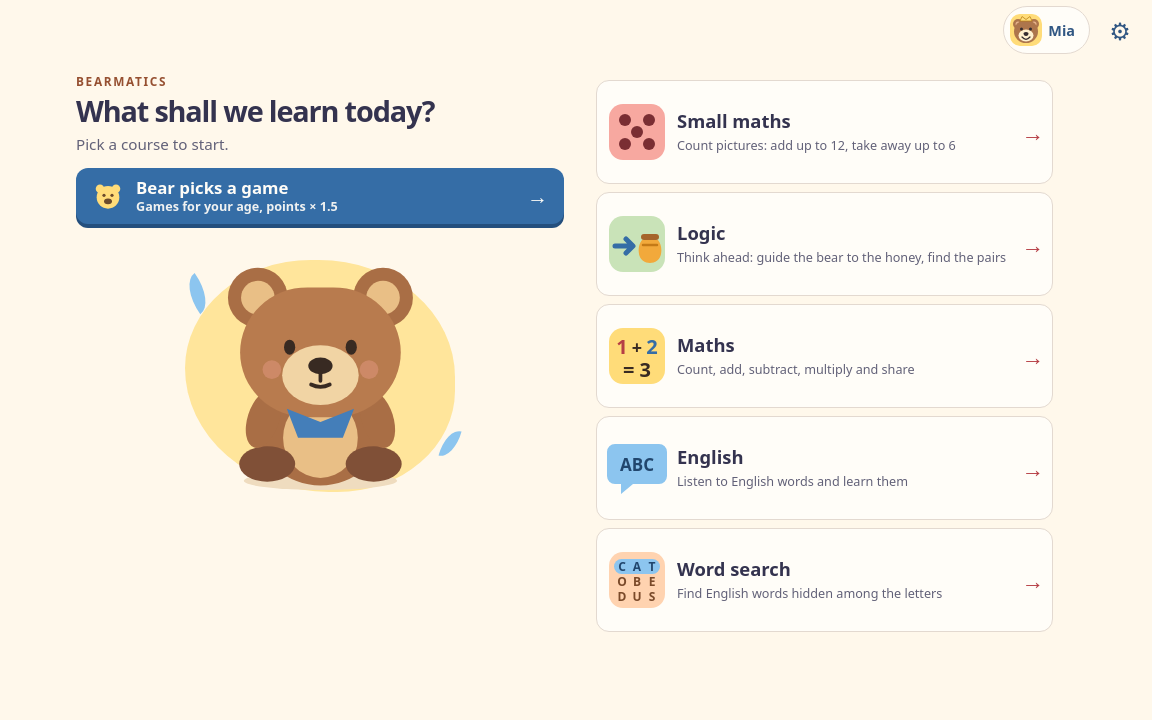
Test: rude nickname: the nickname window asks for a different one (SK too)
Click the button with aria-label "Your profile: Mia" at [1047, 30], box [1003,6,1090,54]
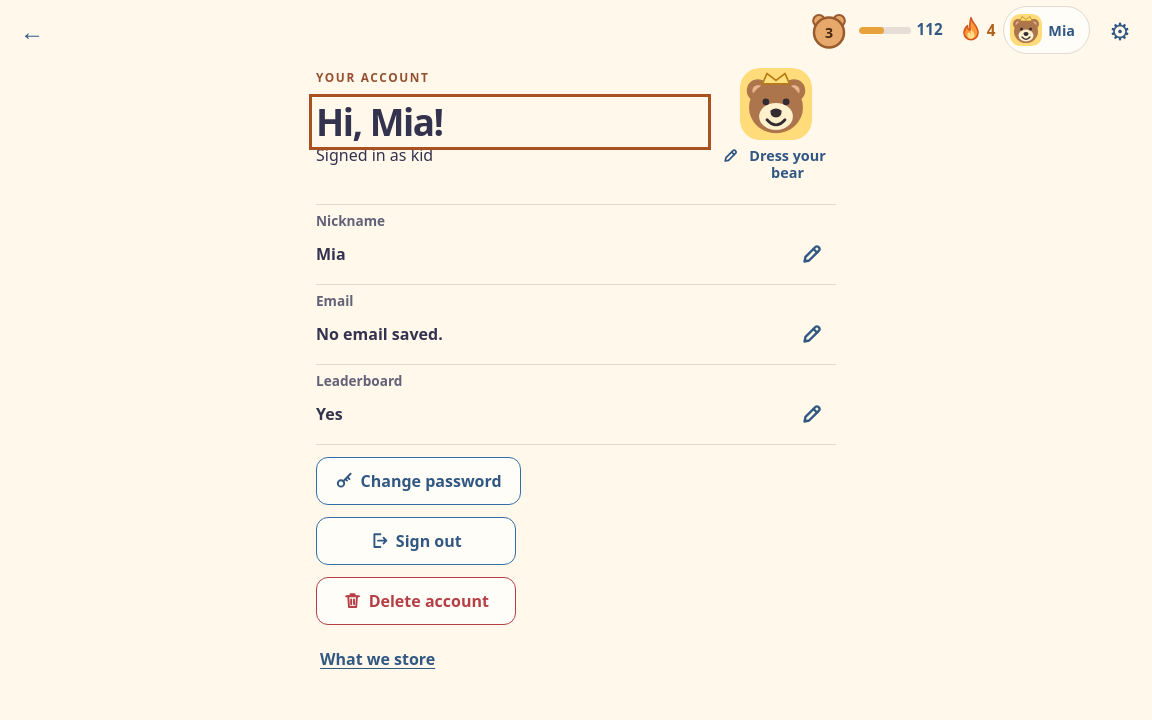
Click the button named "Change nickname" at [812, 254], box [788,230,836,278]
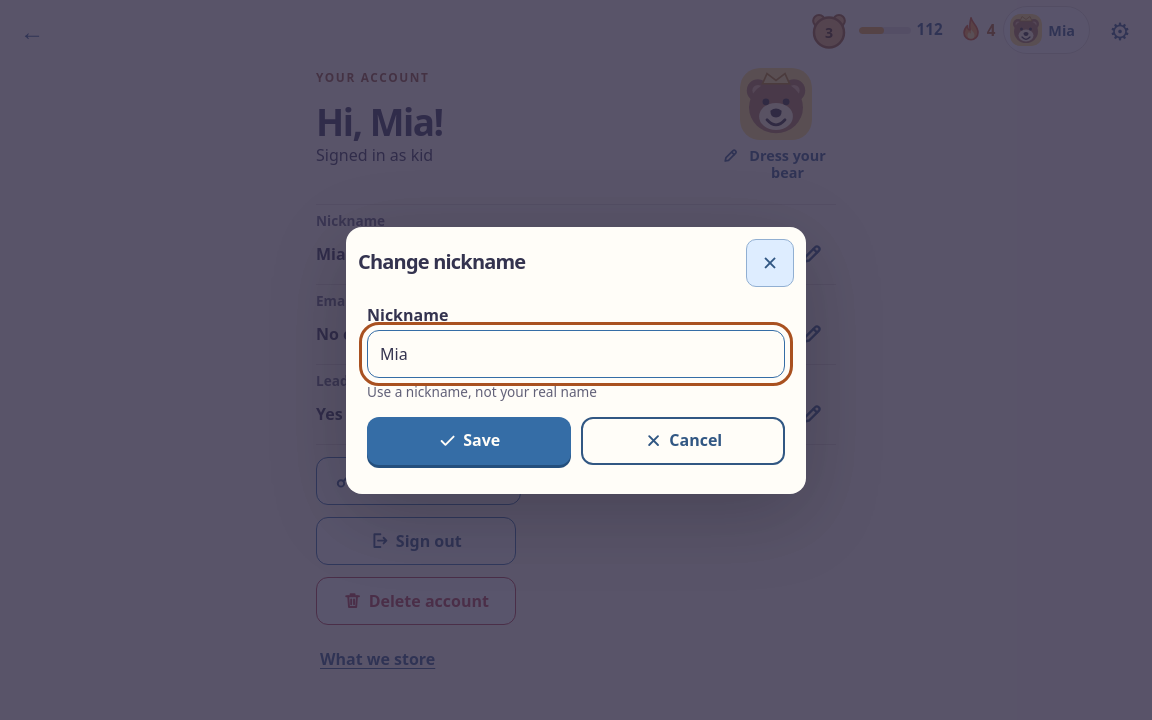
Replace the text in the field labelled "Nickname" with "kok0t" at [576, 354], box [367,330,785,378]
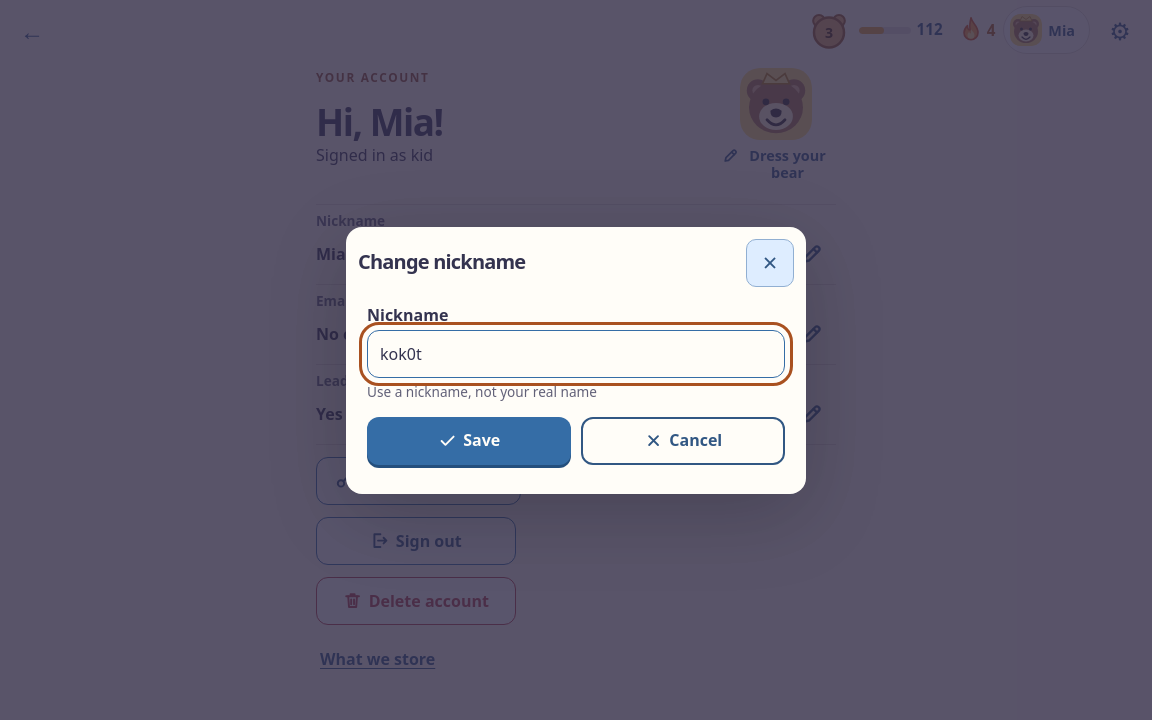
Click the button "Save" at [469, 440], box [367,416,571,464]
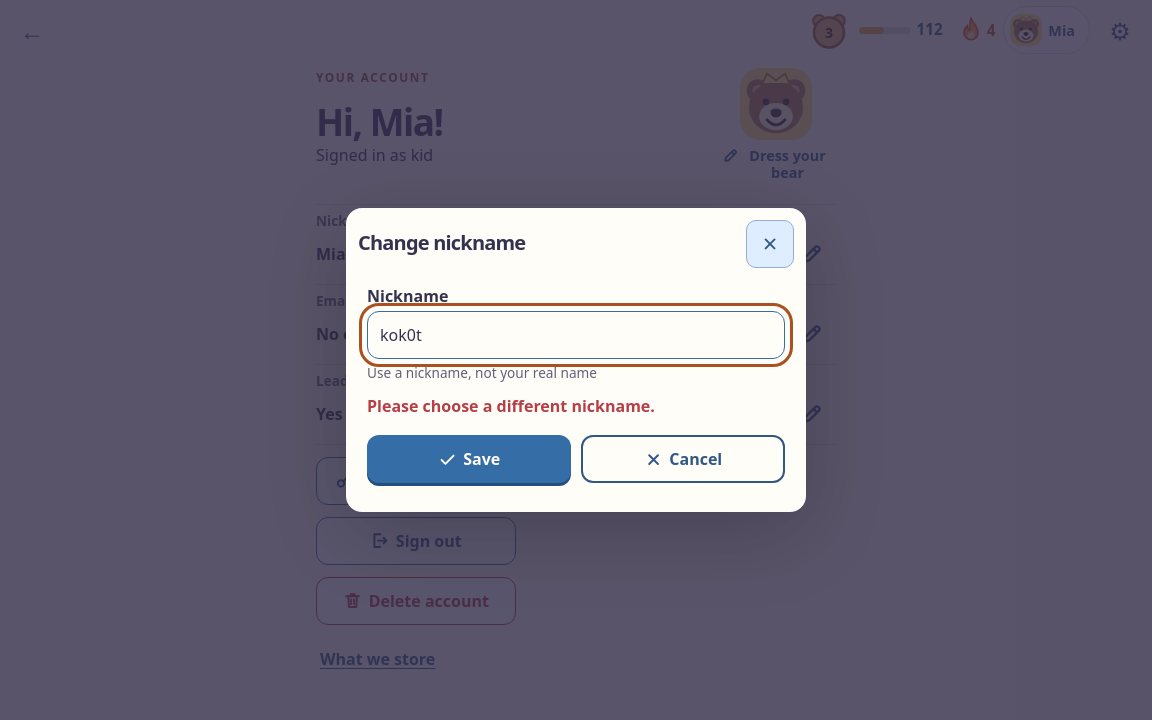
Check: the text "Please choose a different nickname." is shown, box [367,395,655,417]
